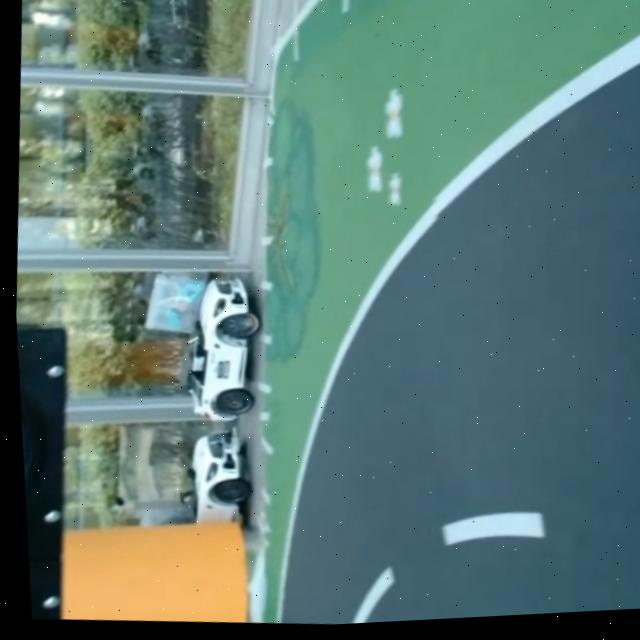traffic-light: (16, 307, 95, 621)
